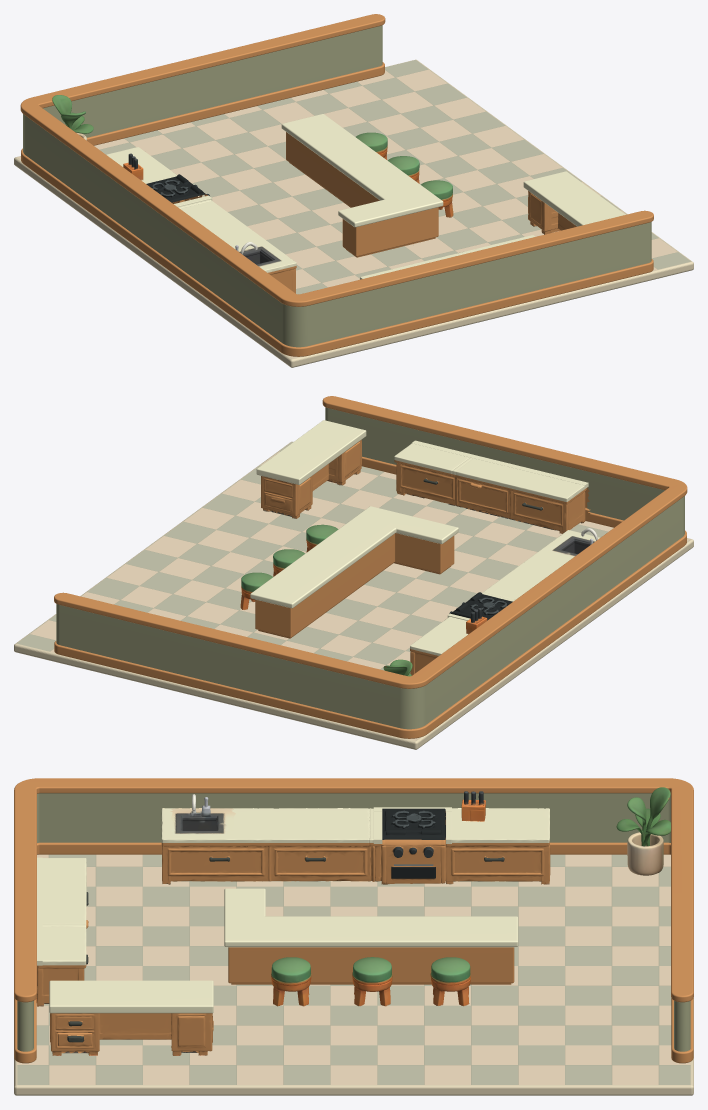
The model's file is sushi-room-v15-clean.glb.
3 renders of one model, top to bottom at view 1: azimuth 30°, elevation 25°; view 2: azimuth 150°, elevation 25°; view 3: azimuth 270°, elevation 25°, orthographic. The views are drawn at different scales.
Visible parts, largest first — view 1: Kitchen • clean tiled floor, Kitchen • continuous rounded wall panels, Kitchen • continuous oak top rail, Kitchen • continuous oak base rail, Kitchen • preserved Tripo furnishings, Front Island • continuous L worktop, Front Island • clean wood body, Cashier Desk • replacement ivory worktop; view 2: Kitchen • clean tiled floor, Kitchen • continuous rounded wall panels, Kitchen • preserved Tripo furnishings, Kitchen • continuous oak top rail, Kitchen • continuous oak base rail, Front Island • continuous L worktop, Front Island • clean wood body, Cashier Desk • replacement ivory worktop, Side Counter • clean ivory wall junction; view 3: Kitchen • clean tiled floor, Kitchen • preserved Tripo furnishings, Kitchen • continuous oak top rail, Kitchen • continuous rounded wall panels, Front Island • continuous L worktop, Front Island • clean wood body, Cashier Desk • replacement ivory worktop, Kitchen • continuous oak base rail, Side Counter • clean ivory wall junction.
Boxes of the visible parts, x1,y1,x2,y2 form: Kitchen • clean tiled floor: [14, 59, 693, 367]; Kitchen • continuous rounded wall panels: [23, 25, 651, 347]; Kitchen • continuous oak top rail: [20, 14, 653, 306]; Kitchen • continuous oak base rail: [21, 62, 653, 356]; Kitchen • preserved Tripo furnishings: [52, 95, 576, 293]; Front Island • continuous L worktop: [281, 114, 443, 227]; Front Island • clean wood body: [286, 132, 438, 256]; Cashier Desk • replacement ivory worktop: [523, 171, 625, 226]; Kitchen • clean tiled floor: [14, 441, 693, 749]; Kitchen • continuous rounded wall panels: [56, 407, 684, 729]; Kitchen • preserved Tripo furnishings: [240, 440, 599, 676]; Kitchen • continuous oak top rail: [54, 396, 687, 688]; Kitchen • continuous oak base rail: [54, 456, 686, 738]; Front Island • continuous L worktop: [250, 506, 458, 608]; Front Island • clean wood body: [255, 533, 454, 637]; Cashier Desk • replacement ivory worktop: [256, 420, 366, 484]; Side Counter • clean ivory wall junction: [412, 440, 588, 488]; Kitchen • clean tiled floor: [14, 854, 693, 1095]; Kitchen • preserved Tripo furnishings: [36, 787, 670, 1055]; Kitchen • continuous oak top rail: [14, 778, 693, 1002]; Kitchen • continuous rounded wall panels: [17, 793, 690, 1051]; Front Island • continuous L worktop: [224, 888, 518, 947]; Front Island • clean wood body: [228, 947, 514, 983]; Cashier Desk • replacement ivory worktop: [49, 980, 213, 1013]; Kitchen • continuous oak base rail: [14, 842, 693, 1063]; Side Counter • clean ivory wall junction: [37, 857, 42, 965].
Size of the model in its own units: 5.98 by 0.9861 by 7.13.
Materials: 16 (2 with a texture image).
